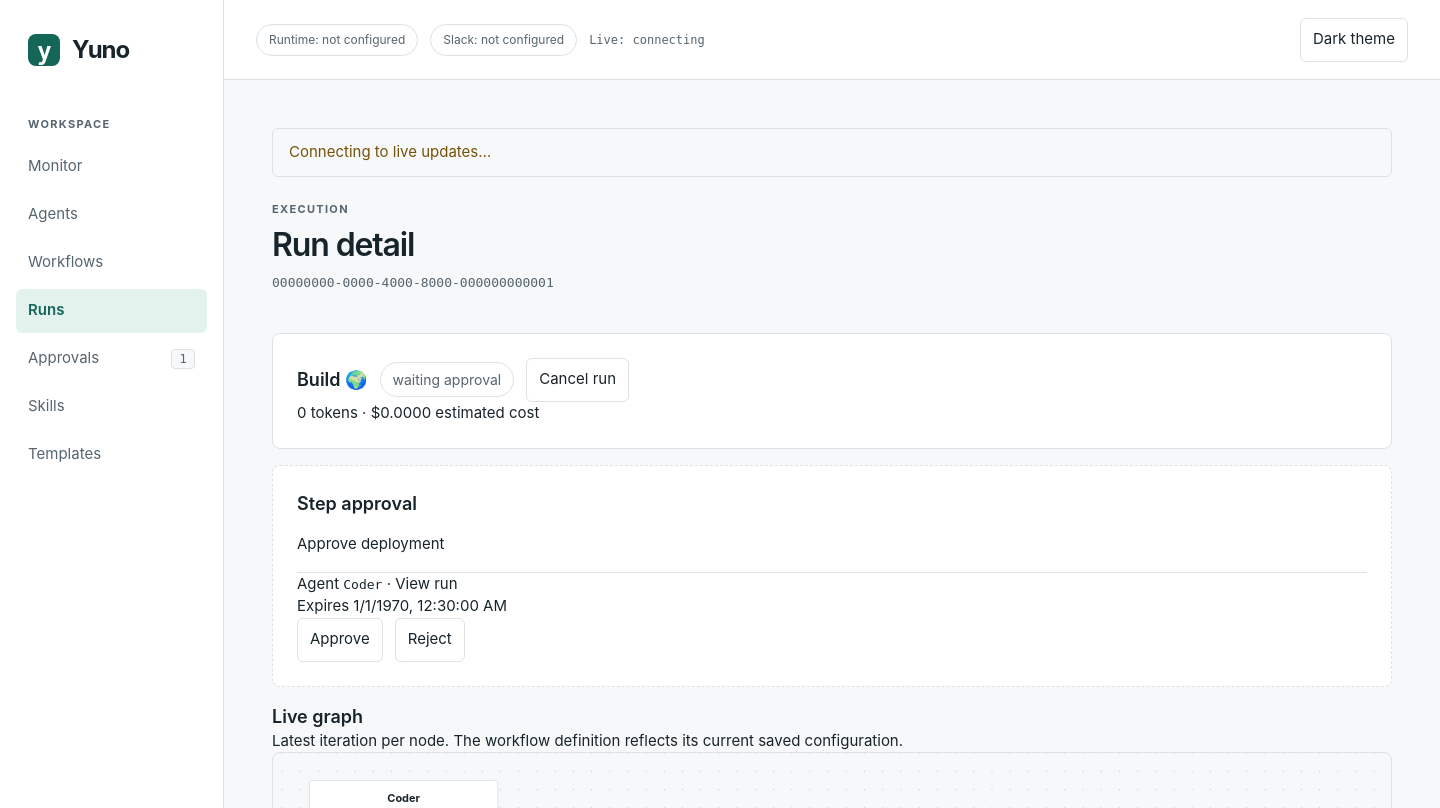
T18 monitoring (R-06, R-16, R-20 through R-25) › R-06 run detail approval banner rejects and refreshes its run state
This screenshot has width=1440, height=808.
Click the button "Reject" at (430, 640), box [395,618,465,662]
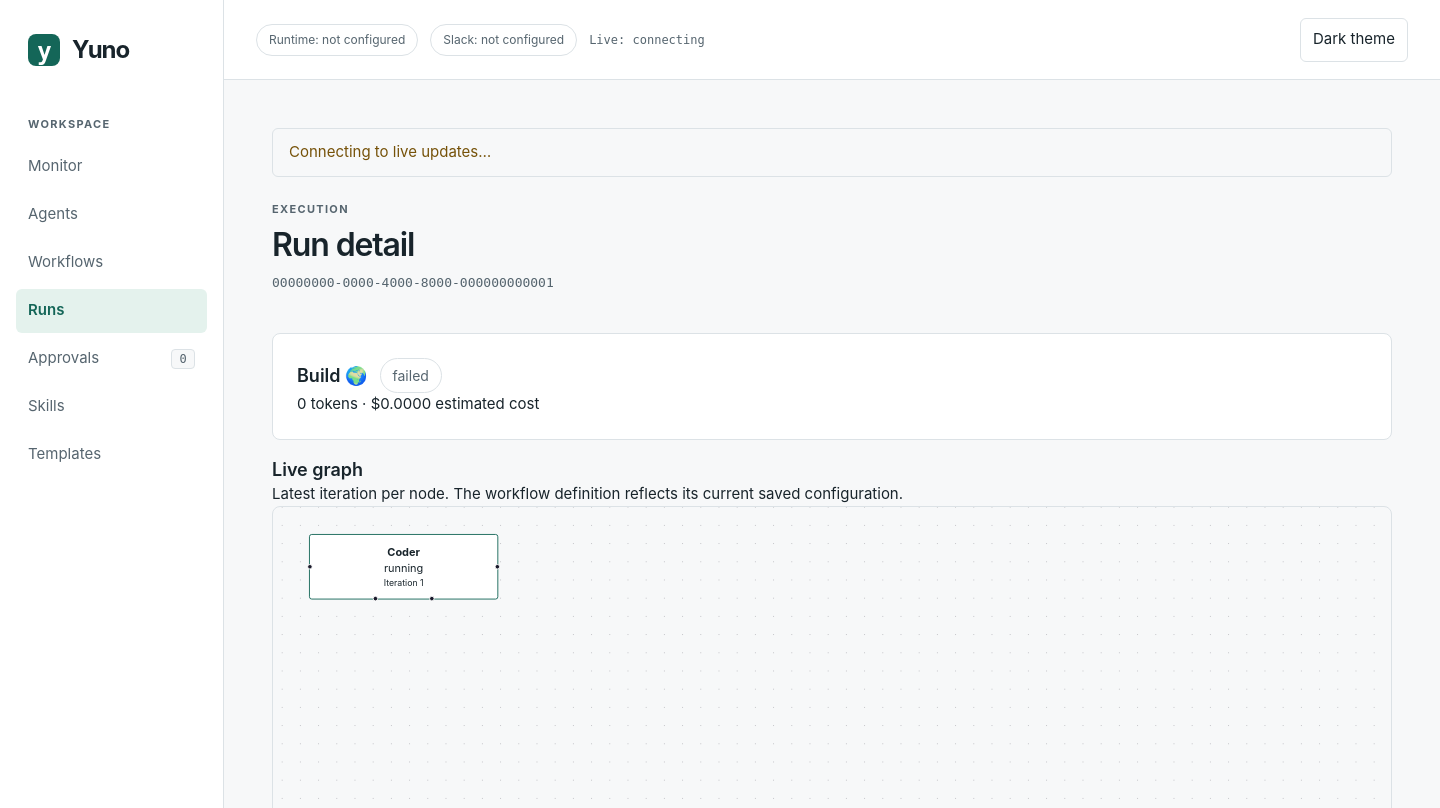
Result: the button "Reject" is gone
Result: the text "failed" is shown at [380,358,442,392]
